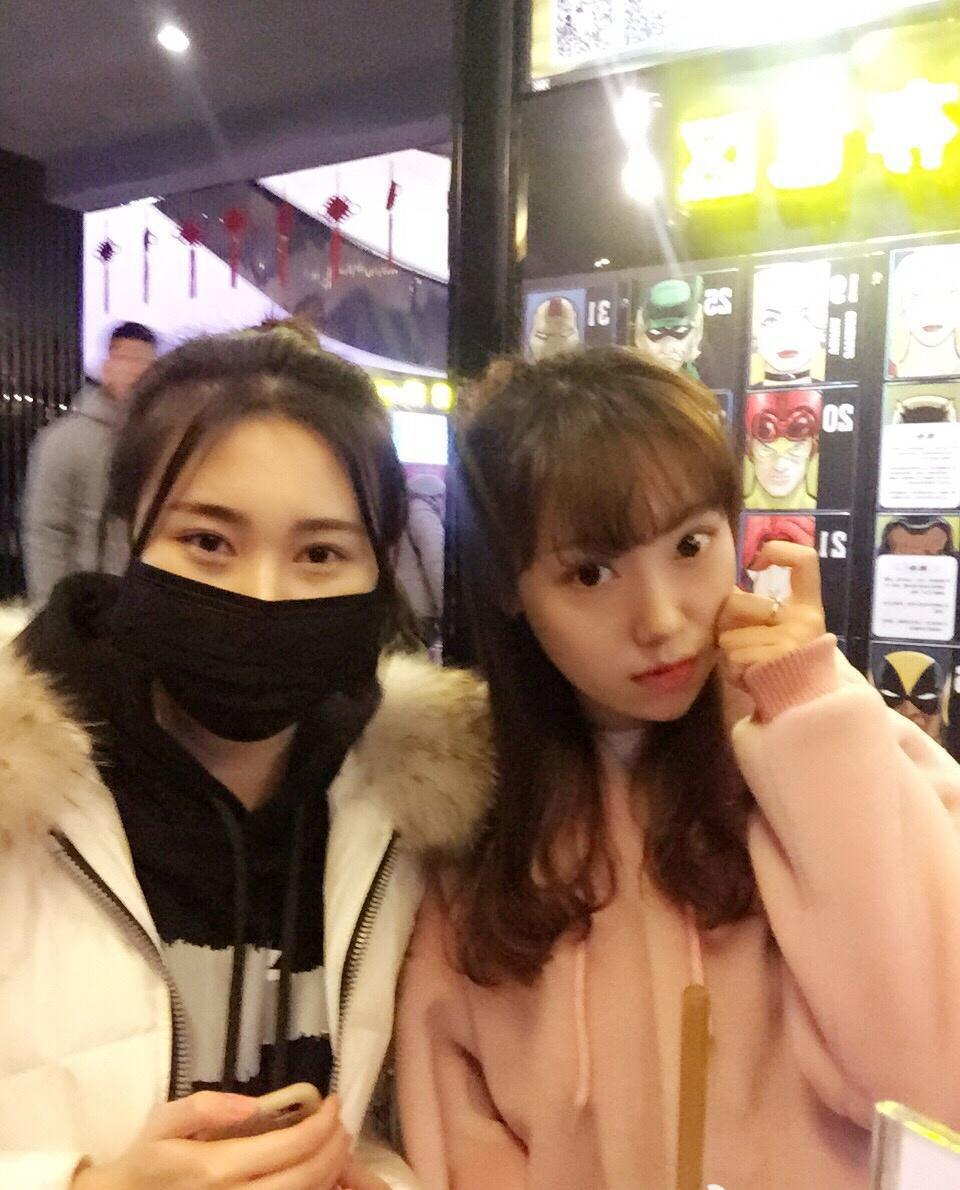NONE: (536, 506, 729, 724)
OK: (145, 484, 401, 740)
